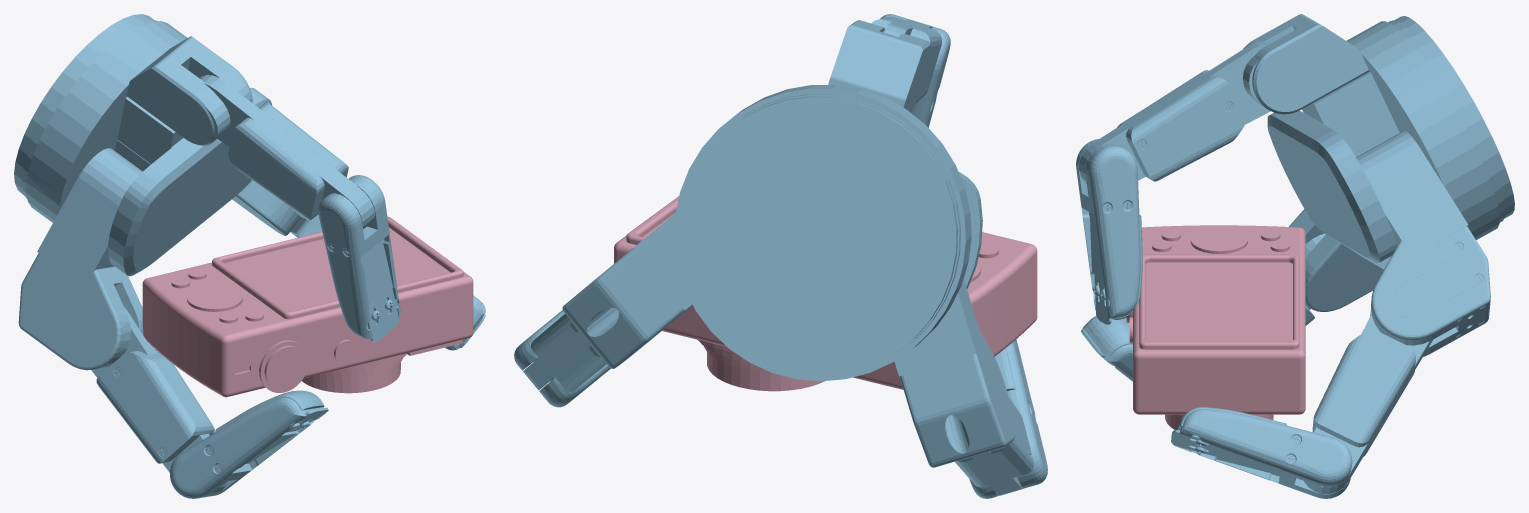
3 views of the same model, side by side, from view 1: azimuth 30°, elevation 25°; view 2: azimuth 150°, elevation 25°; view 3: azimuth 270°, elevation 25° (orthographic). The views are drawn at different scales.
Parts seen in each view (by area): view 1: world; view 2: world; view 3: world.
Boxes of the visible parts, left/top/right/bottom form: world: left=14, top=14, right=485, bottom=498; world: left=514, top=14, right=1047, bottom=498; world: left=1076, top=14, right=1514, bottom=498.
Bounding box in the file's own units: 0.1804 × 0.1721 × 0.1643.
